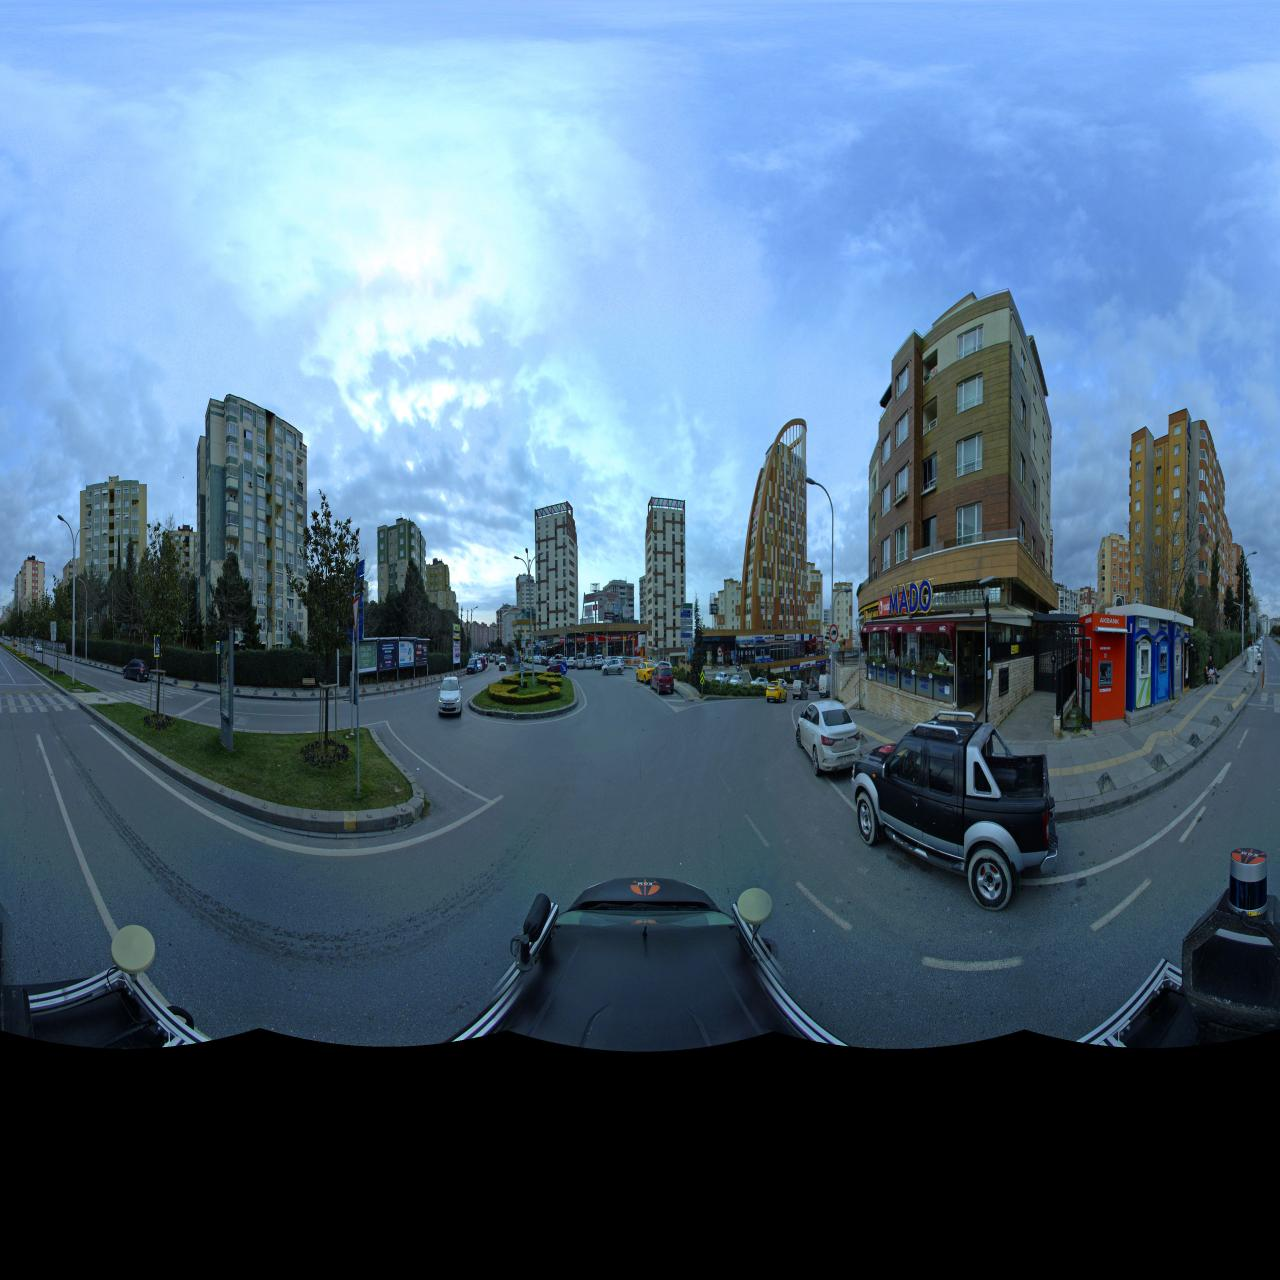SignStore: (888, 578, 933, 615), (878, 597, 888, 615), (863, 608, 877, 619), (799, 661, 815, 668), (801, 633, 812, 641), (710, 635, 721, 644), (784, 634, 796, 641), (775, 634, 784, 641), (610, 635, 622, 640), (816, 635, 823, 644), (754, 635, 763, 641), (764, 635, 774, 641), (566, 638, 574, 644), (577, 636, 585, 641), (559, 638, 564, 644), (540, 641, 546, 646)
